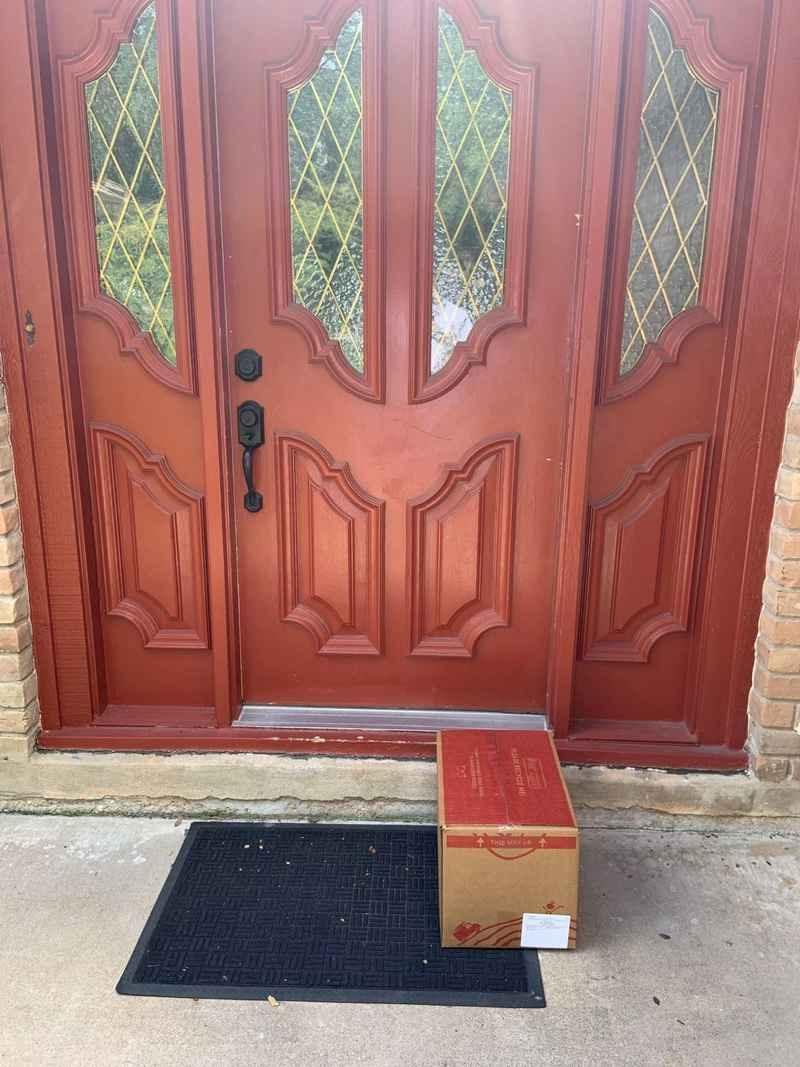package: (431, 727, 589, 944)
